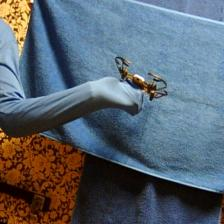drone: (113, 55, 170, 102)
